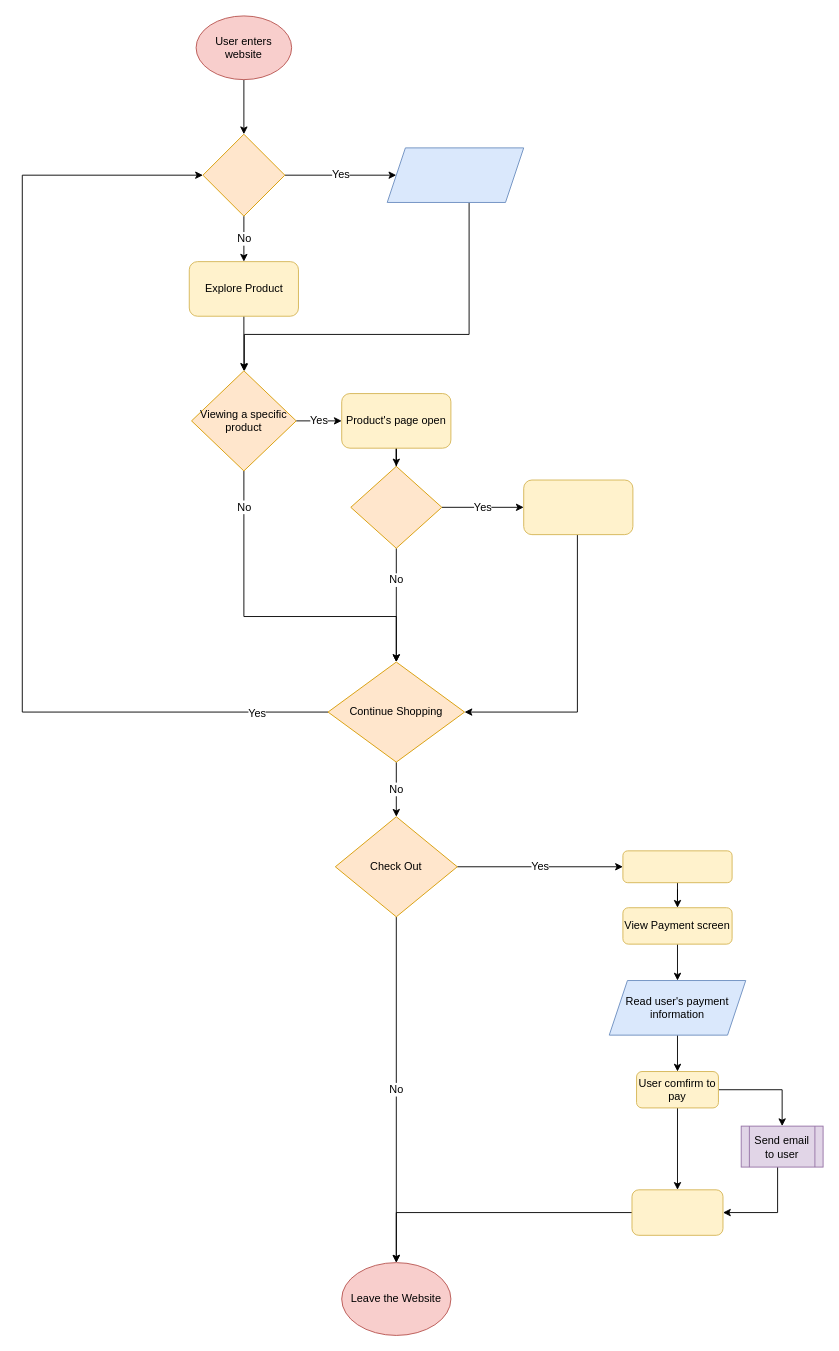
The diagram is 839 pixels wide and 1351 high, and some of its shapes have lost their labels. The centre of each missing label's shape, as x and y in pixels:
"add item to cart" goes at (396,506).
"Added to cart confirmation" goes at (578,507).
"Order confirmation screen" goes at (677,1212).
"Read input as product name" goes at (455,174).
"Search for product" goes at (243,174).
"View Cart screen" goes at (677,866).
